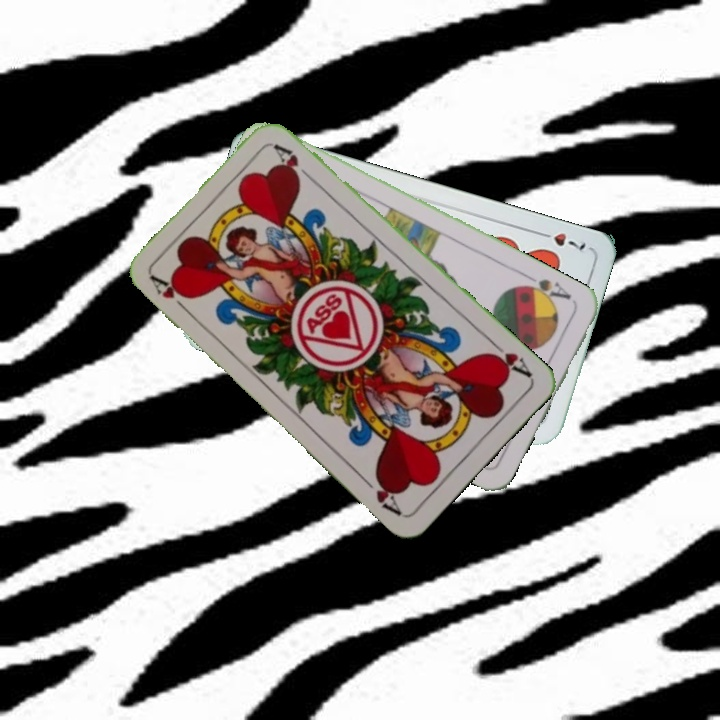H7: (533, 227, 589, 254)
HA: (482, 336, 534, 380), (147, 272, 194, 319)
SA: (518, 271, 574, 307)
